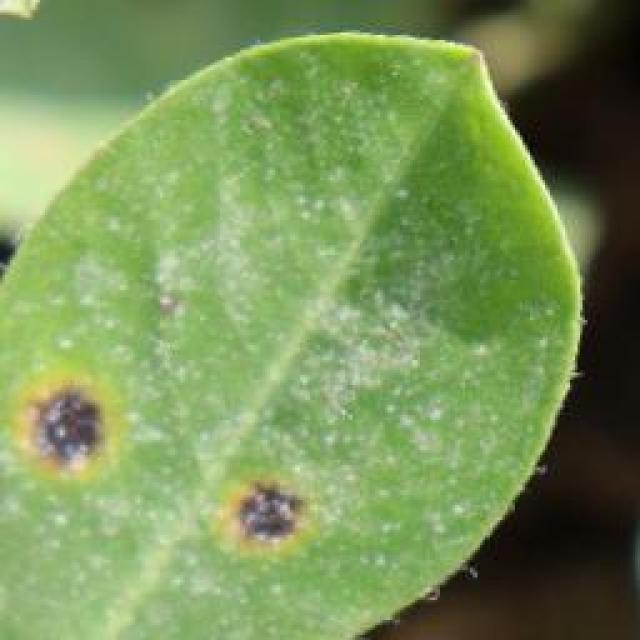Sigatoka: (0, 356, 186, 490), (226, 442, 326, 559)
